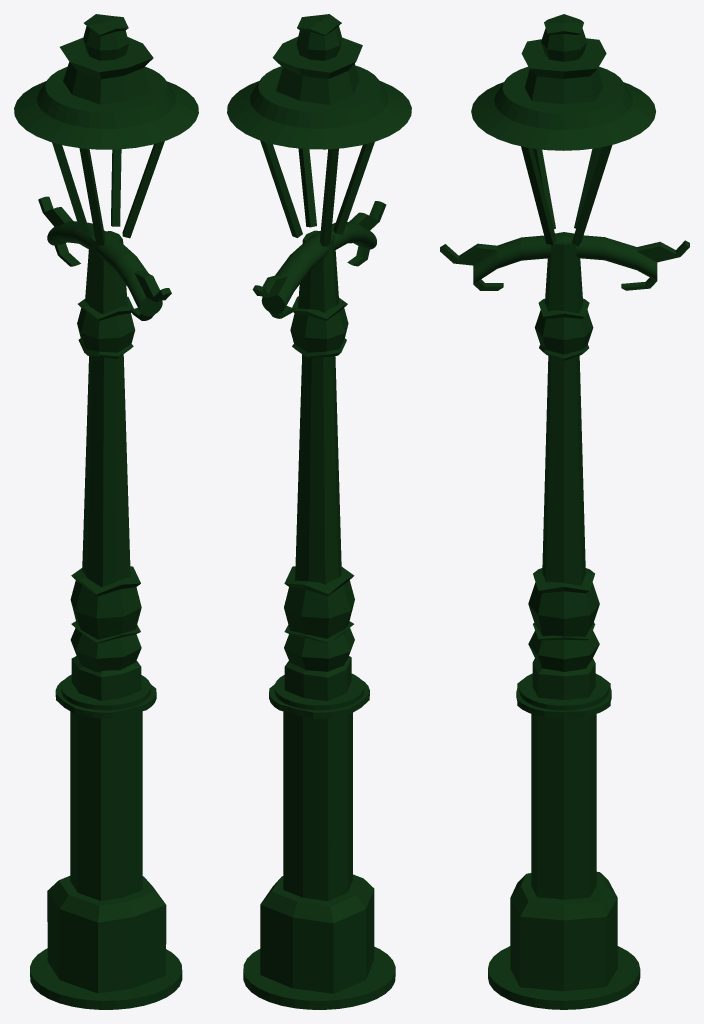
The model's file is lantaarn.fbx.
3 views of the same model, side by side, from view 1: azimuth 30°, elevation 25°; view 2: azimuth 150°, elevation 25°; view 3: azimuth 270°, elevation 25° (orthographic).
Parts seen in each view (by area): view 1: Cube.001, Cube, Cube.005, Cylinder.004, Cylinder.003, Cube.012, Cylinder, Cube.004, Cube.006, Cube.003, Cube.002, Cube.007 (+7 smaller); view 2: Cube.001, Cube, Cylinder.004, Cube.005, Cylinder.003, Cube.012, Cylinder, Cube.004, Cube.006, Cube.003, Cube.002, Cube.007 (+7 smaller); view 3: Cube.001, Cube, Cylinder.004, Cube.005, Cylinder.003, Cylinder, Cube.012, Cube.004, Cube.006, Cube.007, Cube.003, Cube.002 (+5 smaller).
Boxes of the visible parts, left/top/right/bottom form: Cube.001: left=70, top=711, right=142, bottom=900; Cube: left=47, top=876, right=166, bottom=993; Cube.005: left=82, top=354, right=130, bottom=587; Cylinder.004: left=14, top=66, right=198, bottom=149; Cylinder.003: left=38, top=196, right=171, bottom=320; Cube.012: left=60, top=37, right=153, bottom=104; Cylinder: left=30, top=948, right=182, bottom=1009; Cube.004: left=70, top=566, right=141, bottom=639; Cube.006: left=77, top=296, right=135, bottom=358; Cube.003: left=70, top=621, right=141, bottom=672; Cube.002: left=71, top=656, right=141, bottom=700; Cube.007: left=85, top=231, right=127, bottom=314; Cube.001: left=283, top=711, right=352, bottom=901; Cube: left=260, top=874, right=374, bottom=993; Cylinder.004: left=227, top=66, right=411, bottom=149; Cube.005: left=295, top=354, right=341, bottom=584; Cylinder.003: left=252, top=201, right=386, bottom=318; Cube.012: left=272, top=36, right=362, bottom=104; Cylinder: left=243, top=946, right=395, bottom=1009; Cube.004: left=284, top=566, right=354, bottom=638; Cube.006: left=290, top=296, right=348, bottom=358; Cube.003: left=284, top=621, right=354, bottom=671; Cube.002: left=284, top=656, right=351, bottom=701; Cube.007: left=298, top=230, right=339, bottom=312; Cube.001: left=531, top=714, right=596, bottom=899; Cube: left=510, top=871, right=617, bottom=991; Cylinder.004: left=471, top=66, right=655, bottom=150; Cube.005: left=542, top=355, right=585, bottom=585; Cylinder.003: left=440, top=234, right=689, bottom=290; Cylinder: left=488, top=946, right=640, bottom=1009; Cube.012: left=521, top=38, right=606, bottom=103; Cube.004: left=528, top=568, right=599, bottom=639; Cube.006: left=534, top=298, right=593, bottom=360; Cube.007: left=545, top=232, right=583, bottom=313; Cube.003: left=528, top=622, right=599, bottom=671; Cube.002: left=532, top=658, right=595, bottom=699.
Size of what is drawn, in the model's own units: 345 by 1965 by 466.
